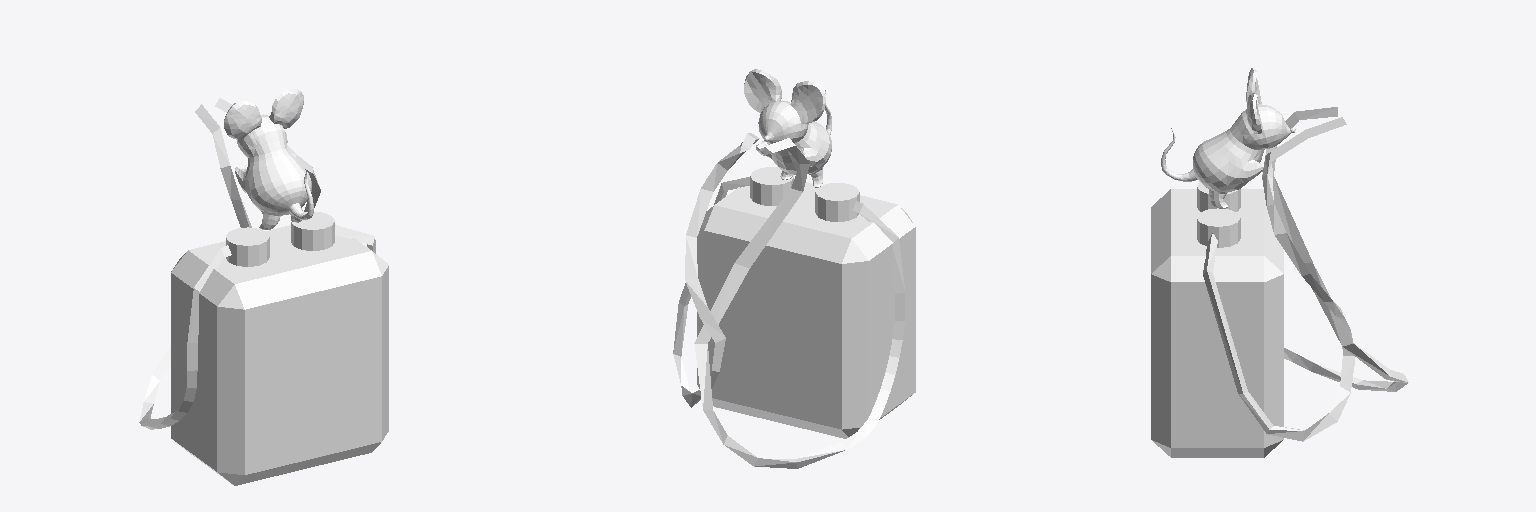
The model's file is AoETower.obj.
3 renders of one model, left to right at view 1: azimuth 30°, elevation 25°; view 2: azimuth 150°, elevation 25°; view 3: azimuth 270°, elevation 25°, orthographic.
Visible parts, largest first — view 1: Battery, Mouse6; view 2: Battery, Mouse6; view 3: Battery, Mouse6.
Part boxes in pixels (x1,y1,x2,y2): Battery: (139,98,388,485); Mouse6: (224,89,313,229); Battery: (673,133,915,468); Mouse6: (744,69,831,187); Battery: (1151,107,1408,457); Mouse6: (1161,68,1295,208).
Bounding box in the file's own units: 2.18 × 3.33 × 2.27.